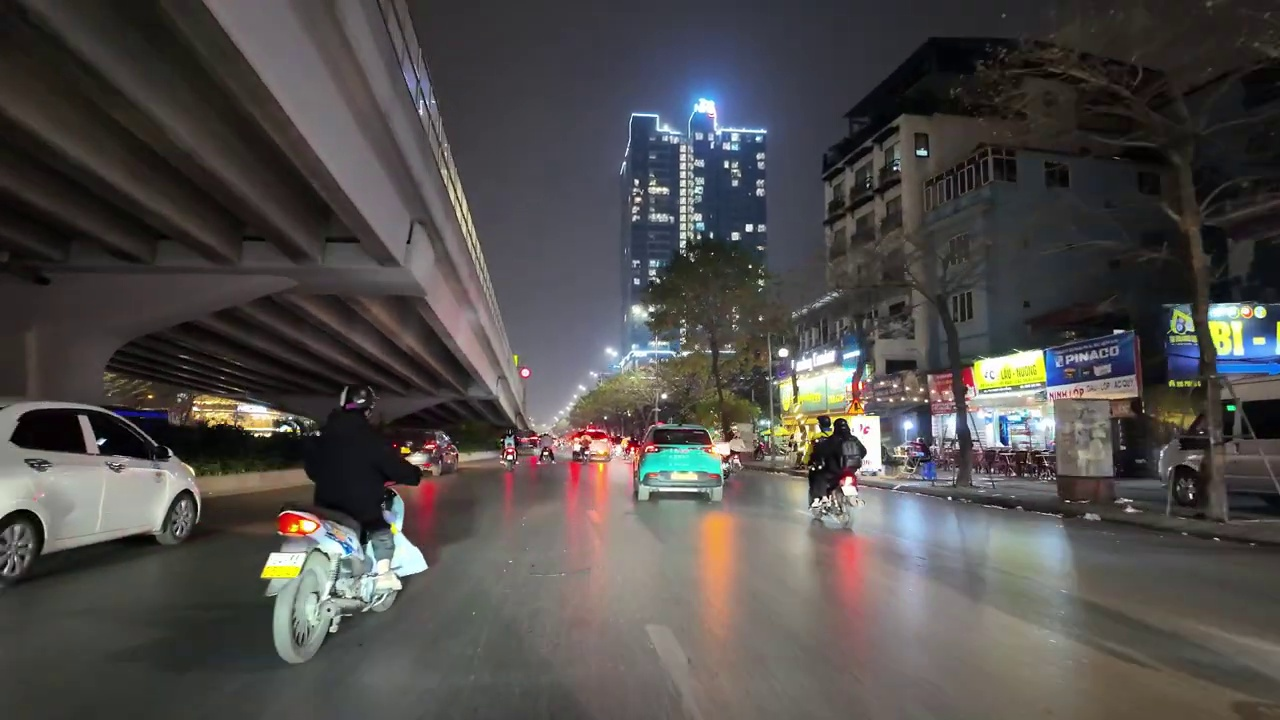acesa: (693, 97, 718, 120)
